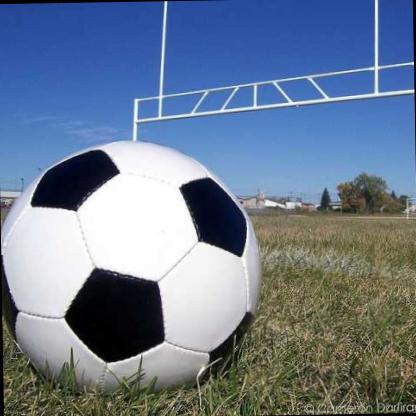ball: (0, 136, 263, 398)
